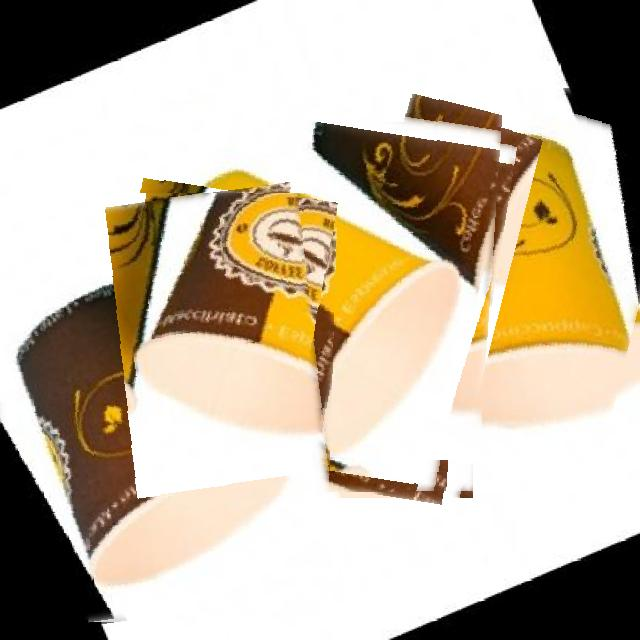non-biodegradable: (102, 92, 504, 494), (0, 193, 338, 624), (354, 74, 640, 459)
